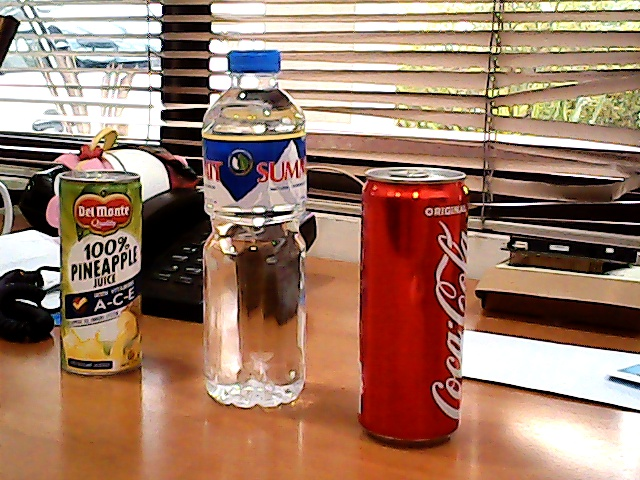Cola: (344, 161, 484, 457)
Pine Juice: (47, 162, 156, 388)
Summit Water: (191, 45, 324, 416)
